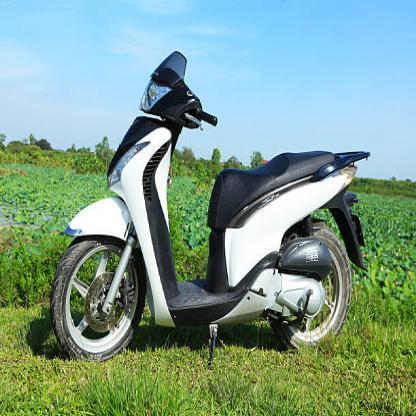Motorcycle: (47, 38, 374, 362)
